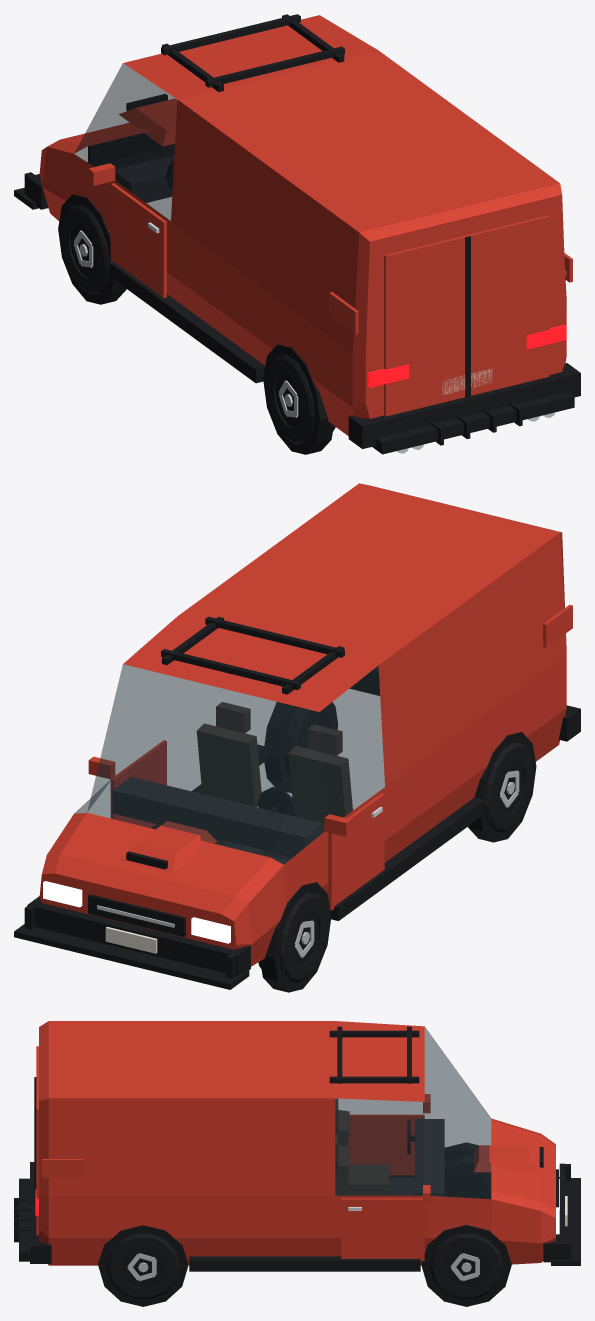
Rendered from van.glb.
The picture shows the model from 3 angles, top to bottom: view 1: azimuth 30°, elevation 25°; view 2: azimuth 150°, elevation 25°; view 3: azimuth 270°, elevation 25°; orthographic projection. The views are drawn at different scales.
Parts seen in each view (by area): view 1: van, van_door_fl, van_wheel_rl, van_wheel_fl; view 2: van, van_door_fl, van_wheel_fl, van_wheel_rl, van_door_fr, van_wheel_rr; view 3: van, van_door_fr, van_wheel_fr, van_wheel_rr, van_door_fl, van_wheel_fl.
Boxes of the visible parts, x1,y1,x2,y2 form: van: (14,14,580,454); van_door_fl: (110,183,166,297); van_wheel_rl: (267,354,335,444); van_wheel_fl: (61,204,109,294); van: (14,483,580,992); van_door_fl: (328,793,384,910); van_wheel_fl: (258,892,327,982); van_wheel_rl: (485,742,532,832); van_door_fr: (110,740,166,827); van_wheel_rr: (283,702,337,778); van: (14,1021,580,1306); van_door_fr: (341,1198,424,1260); van_wheel_fr: (429,1233,503,1299); van_wheel_rr: (106,1233,179,1299); van_door_fl: (347,1114,424,1175); van_wheel_fl: (444,1156,491,1198).
Bounding box in the file's own units: 2.36 × 2.36 × 5.7.
